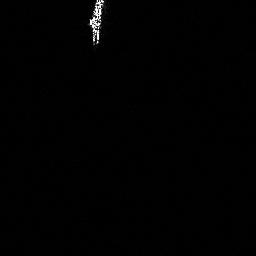ship: (85, 1, 106, 47)
